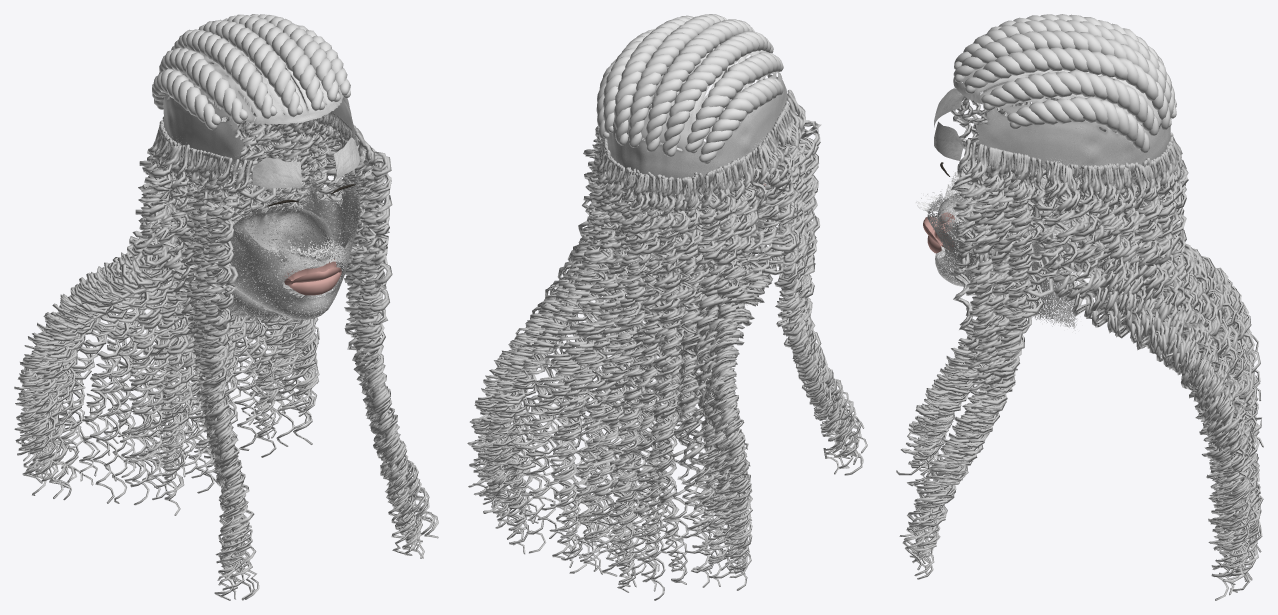
File: NC_Head_Male_Hair3.fbx
3 views of the same model, side by side, from view 1: azimuth 30°, elevation 25°; view 2: azimuth 150°, elevation 25°; view 3: azimuth 270°, elevation 25° (orthographic). The views are drawn at different scales.
Visible parts, largest first — view 1: Hair_LongCurls_Cap_7, Hair_LongCurls_Cap_13, Hair_FlatTwists, Hair_LongCurls_Cap_8, StubbleHeavy, Hair_LongCurls_Cap_12, Hair_LongCurls_Cap_11, Hair_LongCurls_Cap_14, Hair_LongCurls_Cap_5, Hair_LongCurls_Cap_4, Hair_FlatTwists_2, Hair_LongCurls_Cap_6 (+10 smaller); view 2: Hair_LongCurls_Cap_5, Hair_LongCurls_Cap_9, Hair_LongCurls_Cap_8, Hair_FlatTwists, Hair_LongCurls_Cap_6, Hair_LongCurls_Cap_12, Hair_LongCurls_Cap_7, Hair_LongCurls_Cap_11, Hair_LongCurls_Cap_10, Hair_LongCurls_Cap_4, Hair_FlatTwists_2, Hair_LongCurls_Cap_13 (+3 smaller); view 3: Hair_FlatTwists_2, Hair_LongCurls_Cap_14, Hair_LongCurls_Cap_8, Hair_LongCurls_Cap_10, Hair_LongCurls_Cap_12, Hair_LongCurls_Cap_7, Hair_FlatTwists, Hair_LongCurls_Cap_5, Hair_LongCurls_Cap_6, Hair_LongCurls_Cap_13, Hair_LongCurls_Cap_11, Hair_LongCurls_Cap_9 (+8 smaller).
Boxes of the visible parts, <box> form: Hair_LongCurls_Cap_7: <box>29,122,424,569</box>; Hair_LongCurls_Cap_13: <box>17,124,435,600</box>; Hair_FlatTwists: <box>152,29,355,179</box>; Hair_LongCurls_Cap_8: <box>21,105,438,600</box>; StubbleHeavy: <box>181,165,360,321</box>; Hair_LongCurls_Cap_12: <box>20,101,423,580</box>; Hair_LongCurls_Cap_11: <box>14,100,414,599</box>; Hair_LongCurls_Cap_14: <box>25,112,435,599</box>; Hair_LongCurls_Cap_5: <box>19,116,418,583</box>; Hair_LongCurls_Cap_4: <box>43,101,407,532</box>; Hair_FlatTwists_2: <box>198,14,350,117</box>; Hair_LongCurls_Cap_6: <box>14,114,426,599</box>; Hair_LongCurls_Cap_5: <box>467,105,850,572</box>; Hair_LongCurls_Cap_9: <box>486,93,830,600</box>; Hair_LongCurls_Cap_8: <box>475,106,855,590</box>; Hair_FlatTwists: <box>607,31,786,203</box>; Hair_LongCurls_Cap_6: <box>474,107,856,586</box>; Hair_LongCurls_Cap_12: <box>473,92,867,582</box>; Hair_LongCurls_Cap_7: <box>478,102,858,576</box>; Hair_LongCurls_Cap_11: <box>474,89,843,582</box>; Hair_LongCurls_Cap_10: <box>468,121,833,592</box>; Hair_LongCurls_Cap_4: <box>471,94,798,591</box>; Hair_FlatTwists_2: <box>596,14,754,151</box>; Hair_LongCurls_Cap_13: <box>473,110,864,578</box>; Hair_FlatTwists_2: <box>953,19,1176,152</box>; Hair_LongCurls_Cap_14: <box>896,105,1259,580</box>; Hair_LongCurls_Cap_8: <box>899,110,1262,570</box>; Hair_LongCurls_Cap_10: <box>911,102,1263,577</box>; Hair_LongCurls_Cap_12: <box>907,93,1260,592</box>; Hair_LongCurls_Cap_7: <box>906,89,1260,576</box>; Hair_FlatTwists: <box>953,14,1171,189</box>; Hair_LongCurls_Cap_5: <box>906,127,1260,585</box>; Hair_LongCurls_Cap_6: <box>908,132,1263,582</box>; Hair_LongCurls_Cap_13: <box>902,102,1253,579</box>; Hair_LongCurls_Cap_11: <box>907,88,1255,600</box>; Hair_LongCurls_Cap_9: <box>918,97,1261,567</box>.
Size of the model in its own units: 1.17 by 2.01 by 1.22.
7 materials, 5 textured.
